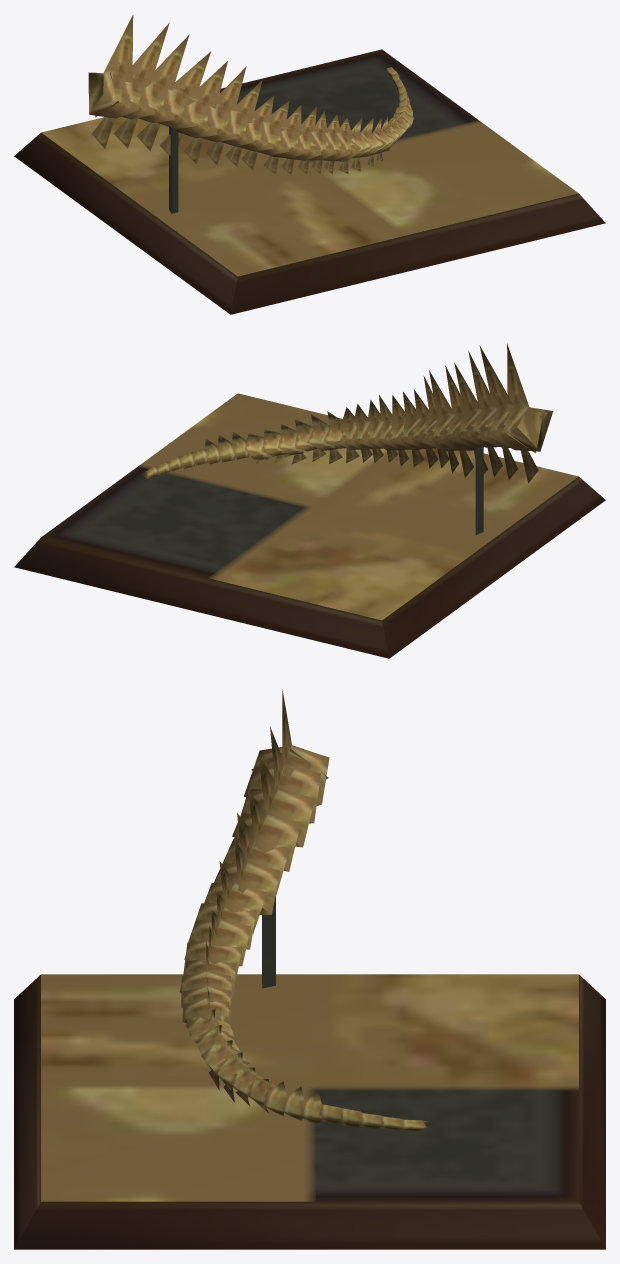
The model's file is int_din_dimet_c.dae.
3 views of the same model, one above another, from view 1: azimuth 30°, elevation 25°; view 2: azimuth 150°, elevation 25°; view 3: azimuth 270°, elevation 25° (orthographic). The views are drawn at different scales.
Visible parts, largest first — view 1: int_din_dimet_c; view 2: int_din_dimet_c; view 3: int_din_dimet_c.
Boxes of the visible parts, left/top/right/bottom form: int_din_dimet_c: left=14, top=14, right=605, bottom=314; int_din_dimet_c: left=14, top=343, right=605, bottom=658; int_din_dimet_c: left=14, top=689, right=605, bottom=1249.
Bounding box in the file's own units: 64.6 × 34.15 × 58.65.
1 material, 1 textured.
